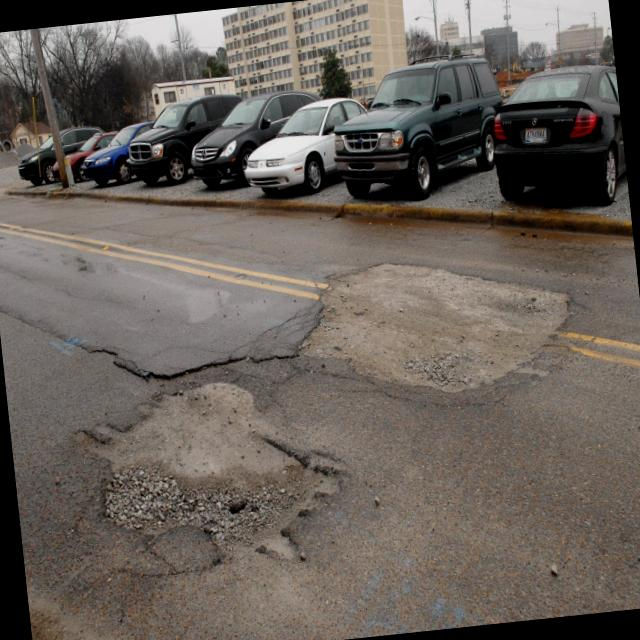bad-road: (69, 366, 353, 589), (326, 240, 580, 404), (86, 292, 338, 390)
